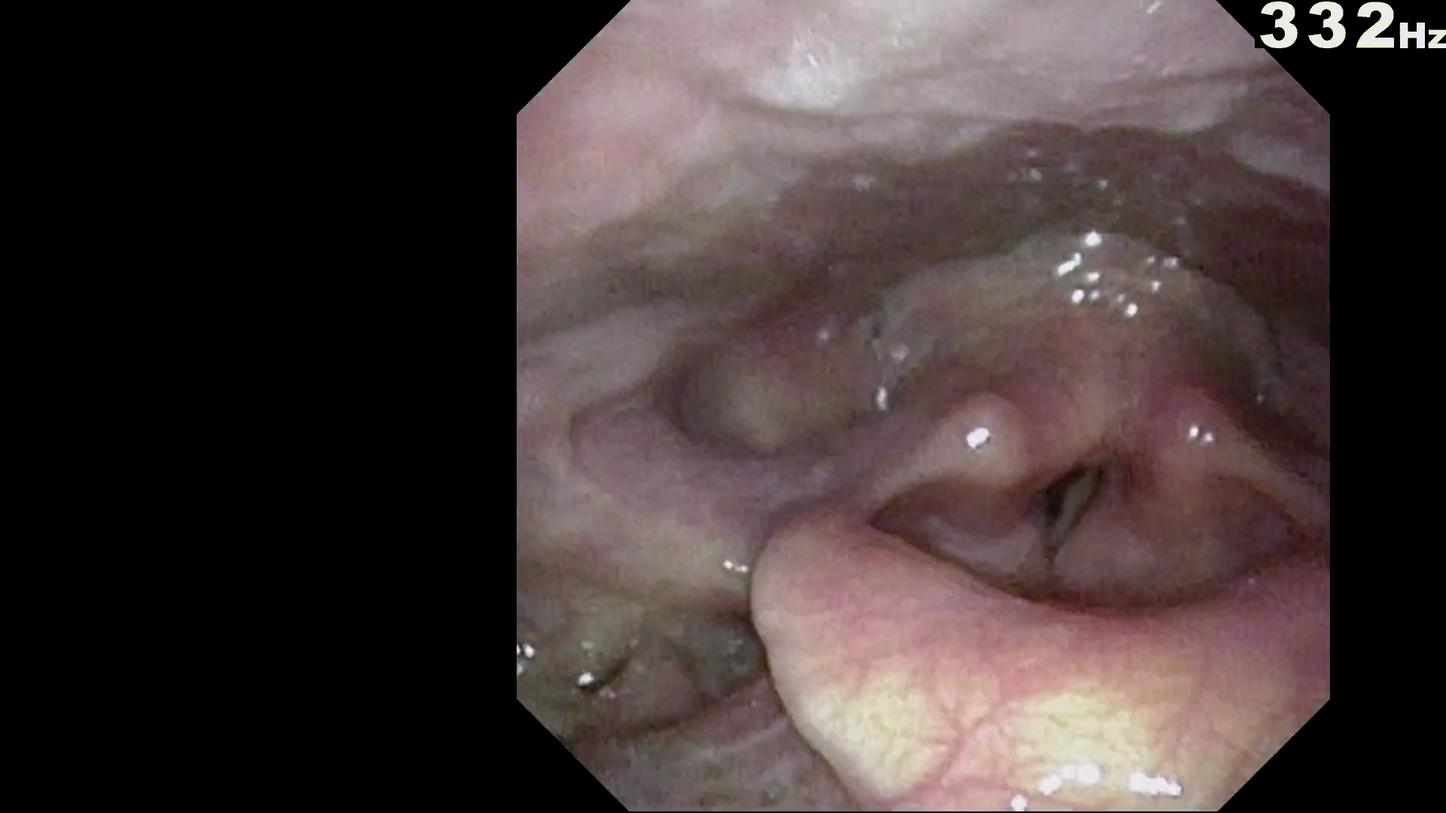epiglottis: (723, 432, 1317, 676), (702, 366, 1320, 592)
trachea: (1022, 413, 1143, 532)
